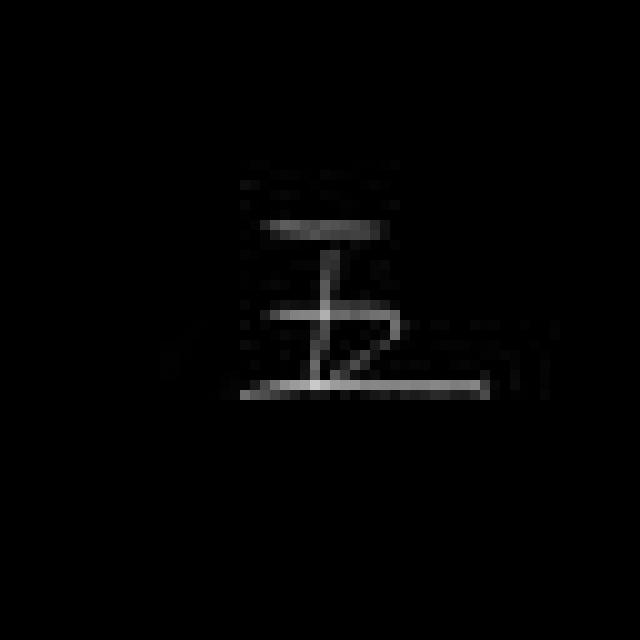5 -five-: (224, 202, 501, 410)
